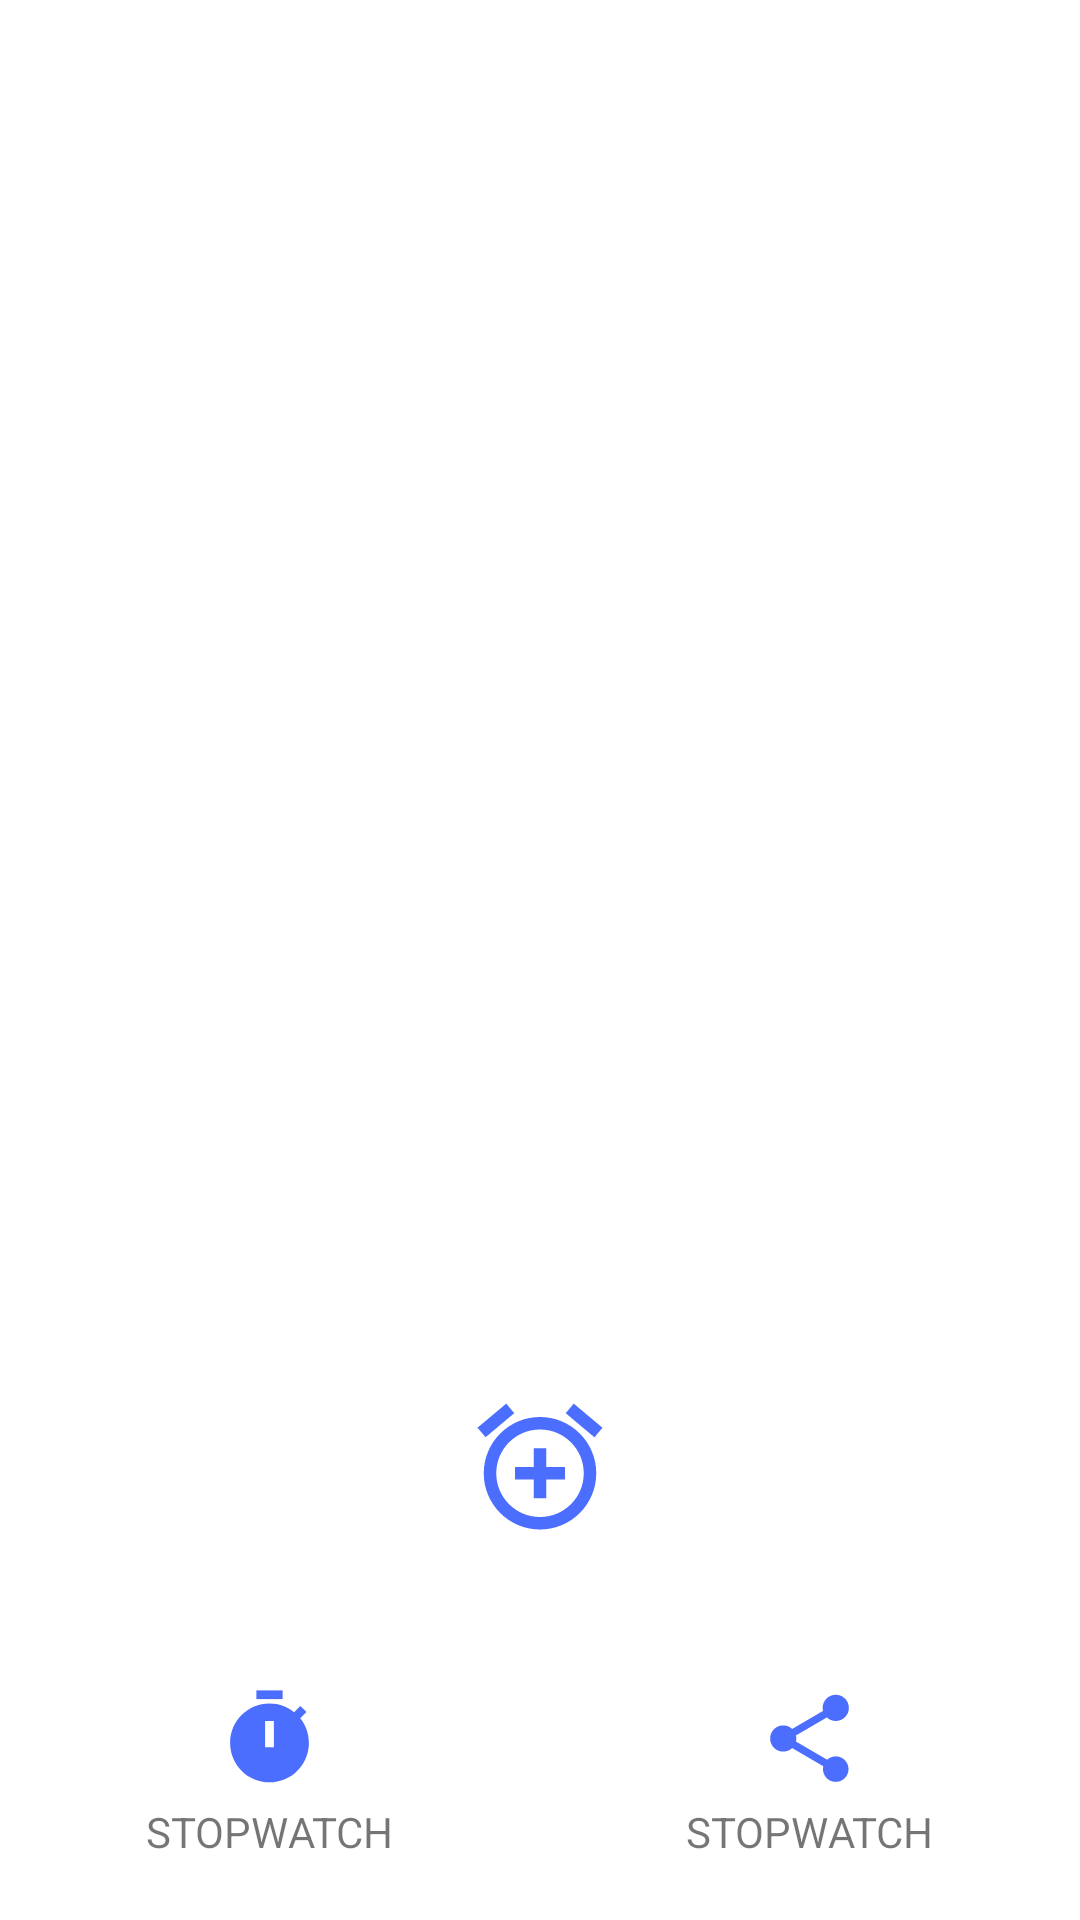

Where to tap for icons on this 1080×1920 app screen, as point (x, y):
add alarm: point (540, 1467)
share bottom: point (809, 1738)
timer: point (269, 1736)
